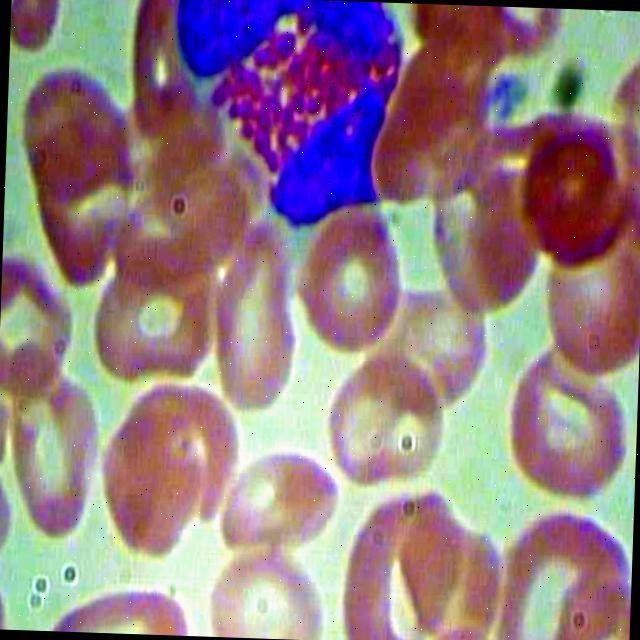Platelets: (484, 61, 538, 120)
RBC: (7, 54, 146, 211), (502, 342, 634, 502), (210, 217, 313, 418), (320, 338, 452, 492), (2, 340, 100, 545), (514, 120, 640, 279), (287, 199, 408, 358), (90, 402, 210, 560), (331, 478, 441, 640), (88, 257, 226, 386), (220, 437, 342, 561), (388, 279, 488, 402), (202, 550, 334, 640), (0, 256, 80, 388), (474, 5, 572, 70)
WBC: (161, 0, 407, 237)
